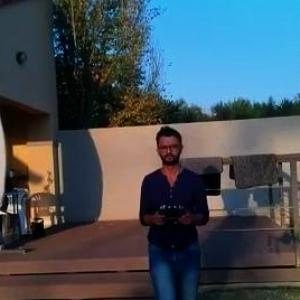follow: (132, 121, 216, 299)
